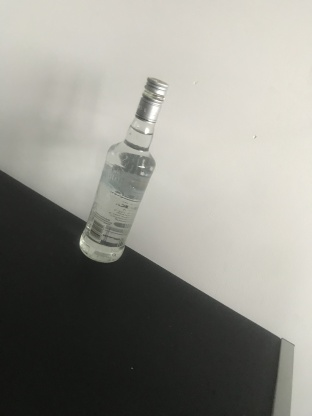nakretka: (133, 73, 170, 124)
